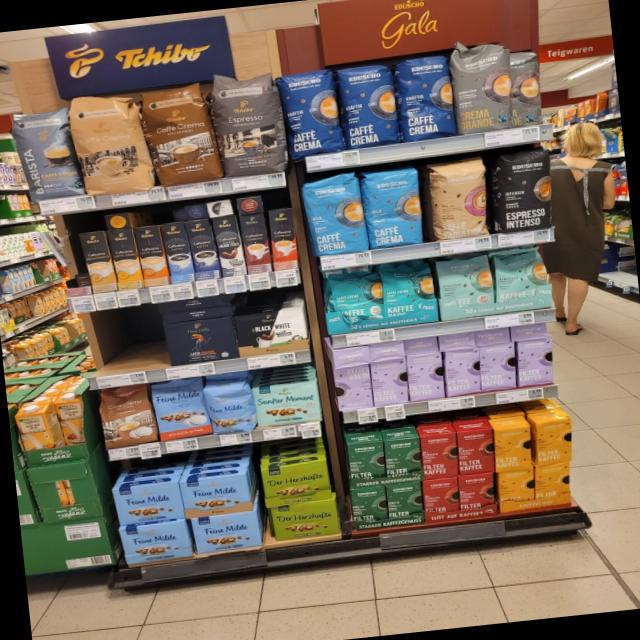BW Gemahlen: (231, 305, 310, 356)
Barista CC: (2, 104, 88, 203)
CC Mild: (66, 88, 157, 196)
CC Vollmundig: (93, 383, 163, 451)
CC Vollmundig 36 Pads: (133, 80, 223, 188)
Empty Shelf: (87, 327, 170, 373), (55, 232, 92, 297)
Espresso Aromatisch: (204, 66, 292, 178)
FM 36 Pads: (146, 374, 212, 445)
FM Bohne: (200, 378, 257, 436)
FM Gemahlen: (118, 518, 196, 567), (179, 470, 254, 520), (110, 480, 186, 527), (189, 510, 262, 555)
Herzhatfe Mundig: (260, 458, 332, 507), (271, 498, 340, 542)
LG Gemahlen: (163, 315, 239, 367)
SM Gemahlen: (252, 379, 321, 427)
Simo CCMild bigpack: (106, 227, 143, 290)
Simo Decaff: (79, 229, 118, 294)
Simo Es Elegant: (268, 208, 299, 271)
Simo Es Kraft: (238, 211, 273, 274)
Simo Kaffee BW: (209, 214, 247, 277)
Simo Kaffee Kraft: (184, 218, 222, 280)
Simo Kaffee Mild: (159, 221, 195, 284), (133, 224, 168, 288)
